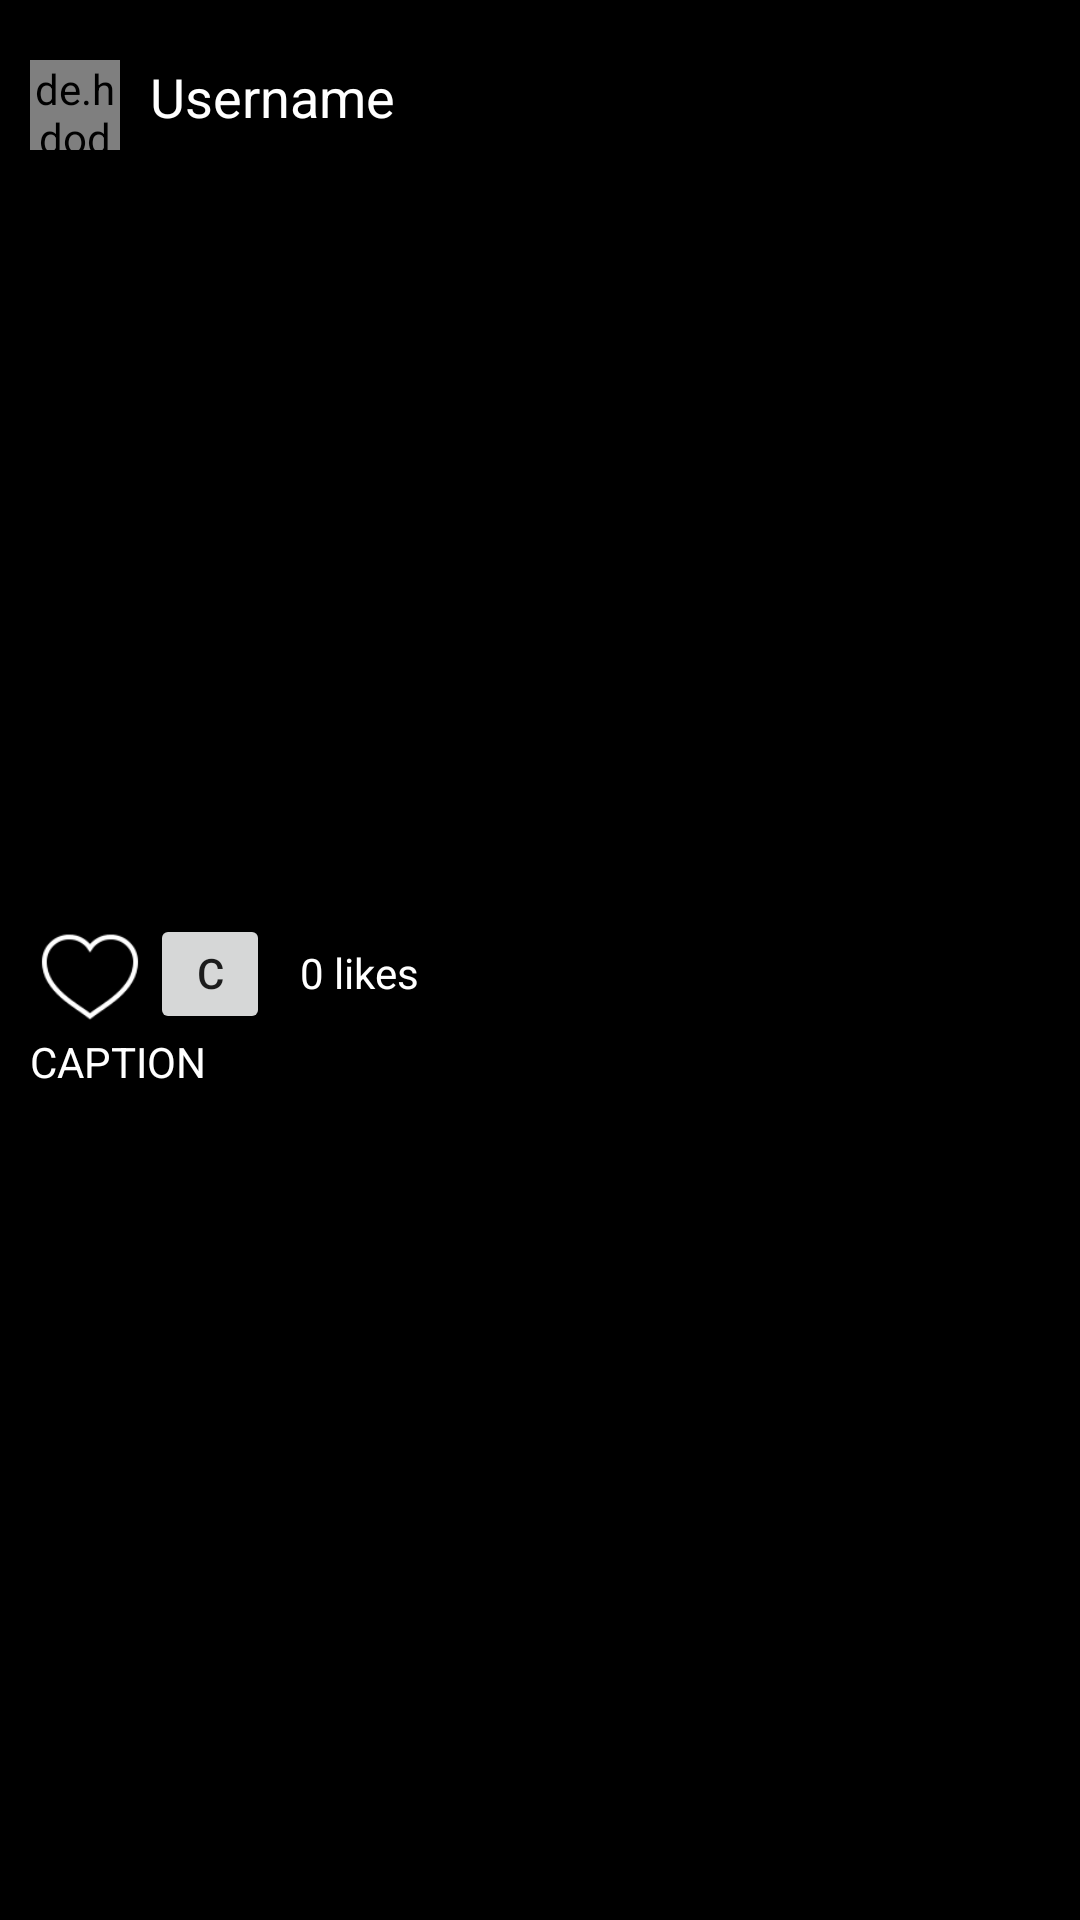

Icon bounding boxes for this 1080 x 1920 phone screenshot, format (x1, y1, x2, y2):
like: (42, 934, 138, 1020)
